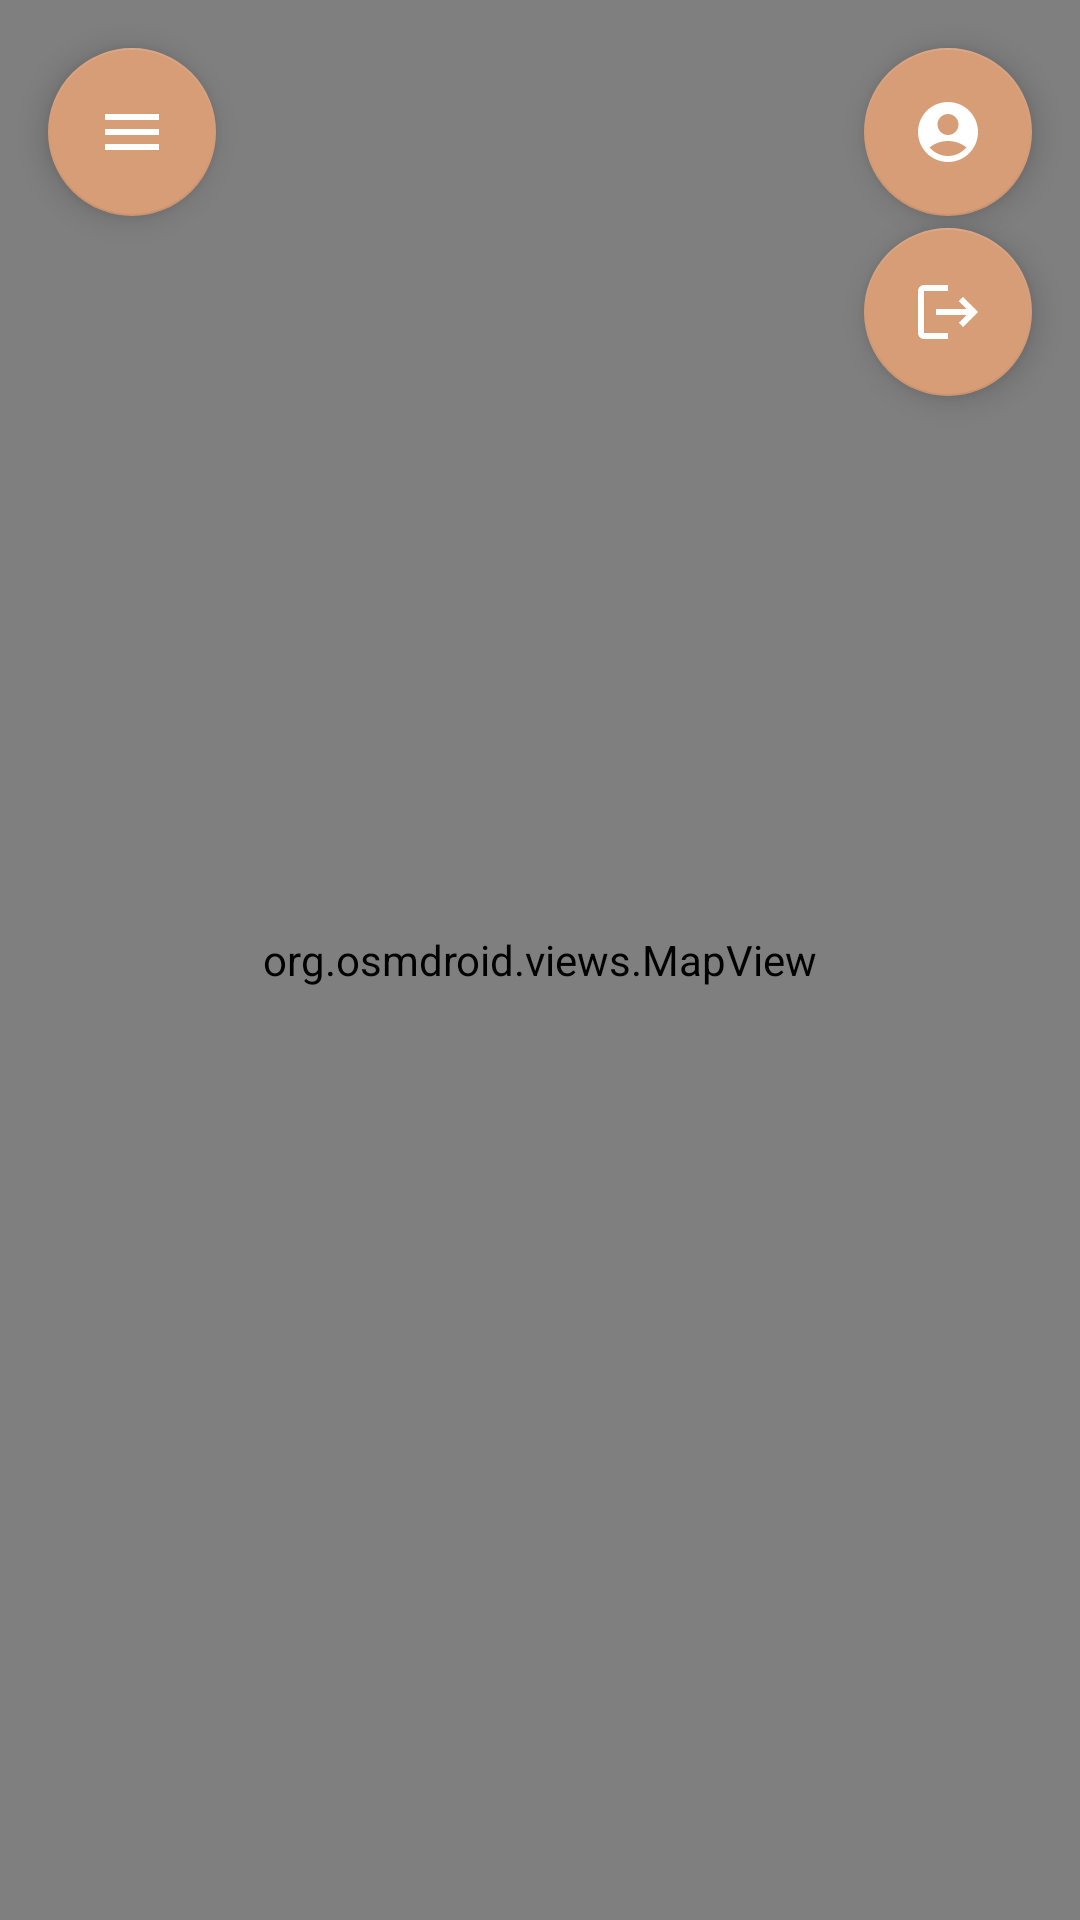

Icons on this 1080w x 1920h Android screen, each with the point to tap as (x,y):
Afficher la page de profil: (948,132)
Afficher le menu: (132,132)
